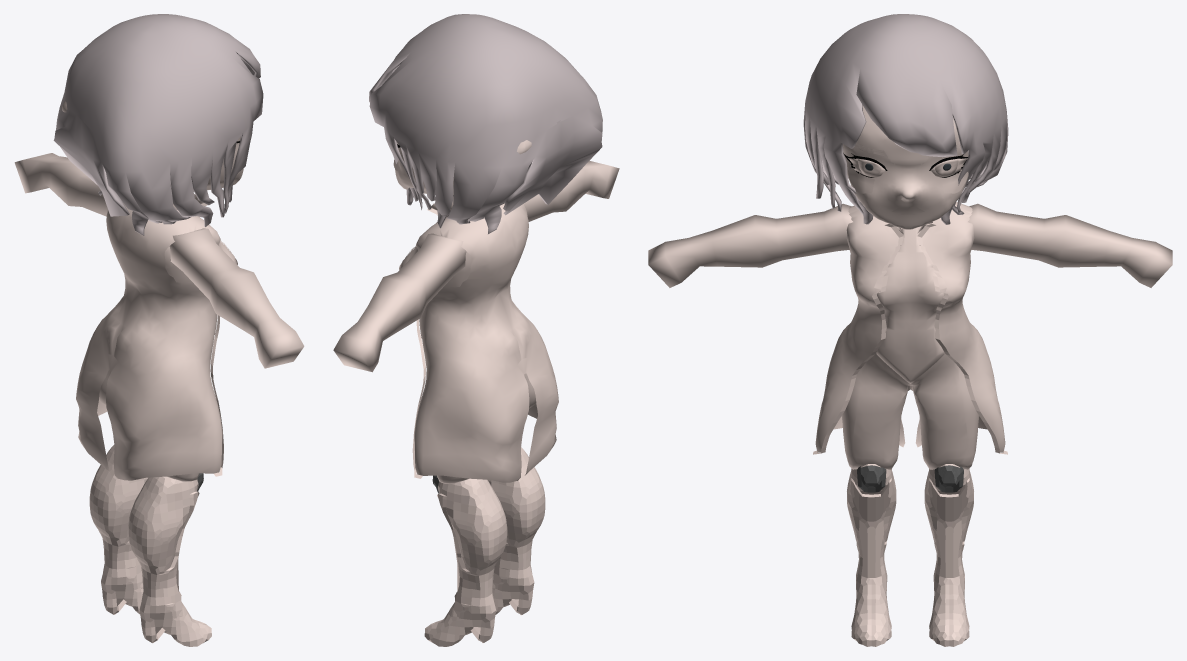
The model's file is TANGINANAMAN.fbx.
3 views of the same model, side by side, from view 1: azimuth 30°, elevation 25°; view 2: azimuth 150°, elevation 25°; view 3: azimuth 270°, elevation 25° (orthographic).
Parts seen in each view (by area): view 1: Cube.001; view 2: Cube.001; view 3: Cube.001.
Boxes of the visible parts, left/top/right/bottom form: Cube.001: left=14, top=14, right=304, bottom=646; Cube.001: left=333, top=14, right=619, bottom=646; Cube.001: left=648, top=14, right=1172, bottom=646.
Bounding box in the file's own units: 202 × 641 × 496.
19 materials, 14 textured.
